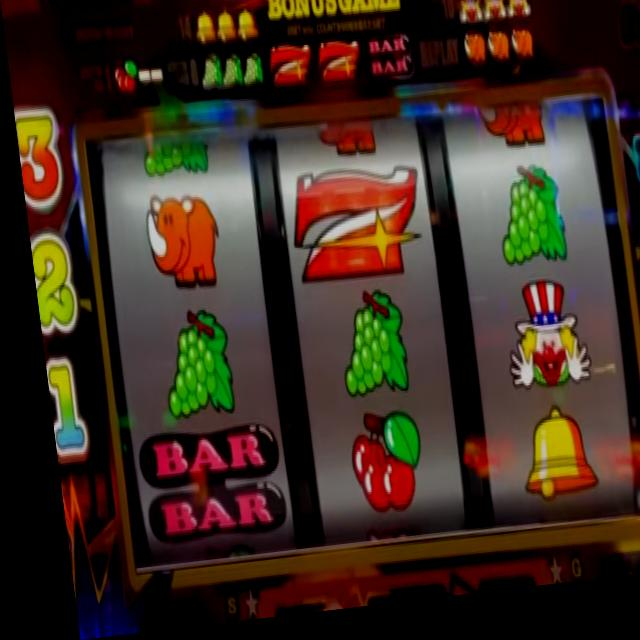bar: (125, 420, 274, 551), (361, 40, 414, 95)
bell: (502, 413, 587, 522), (191, 11, 216, 53), (213, 10, 237, 51), (233, 13, 258, 51)
cherry: (334, 414, 414, 525), (110, 63, 137, 97)
clown: (490, 287, 583, 410), (454, 0, 483, 37), (502, 0, 531, 35), (480, 0, 506, 38)
display: (79, 92, 640, 578)
elephant: (135, 189, 218, 295), (472, 109, 542, 161), (308, 124, 375, 168), (459, 39, 487, 81), (483, 39, 509, 79), (508, 41, 533, 73)
grape: (147, 309, 229, 427), (325, 295, 402, 411), (485, 171, 562, 281), (129, 128, 209, 194), (238, 55, 264, 96), (194, 60, 222, 98), (218, 59, 242, 99)
z: (280, 164, 423, 292), (265, 46, 310, 99), (314, 42, 359, 95)
